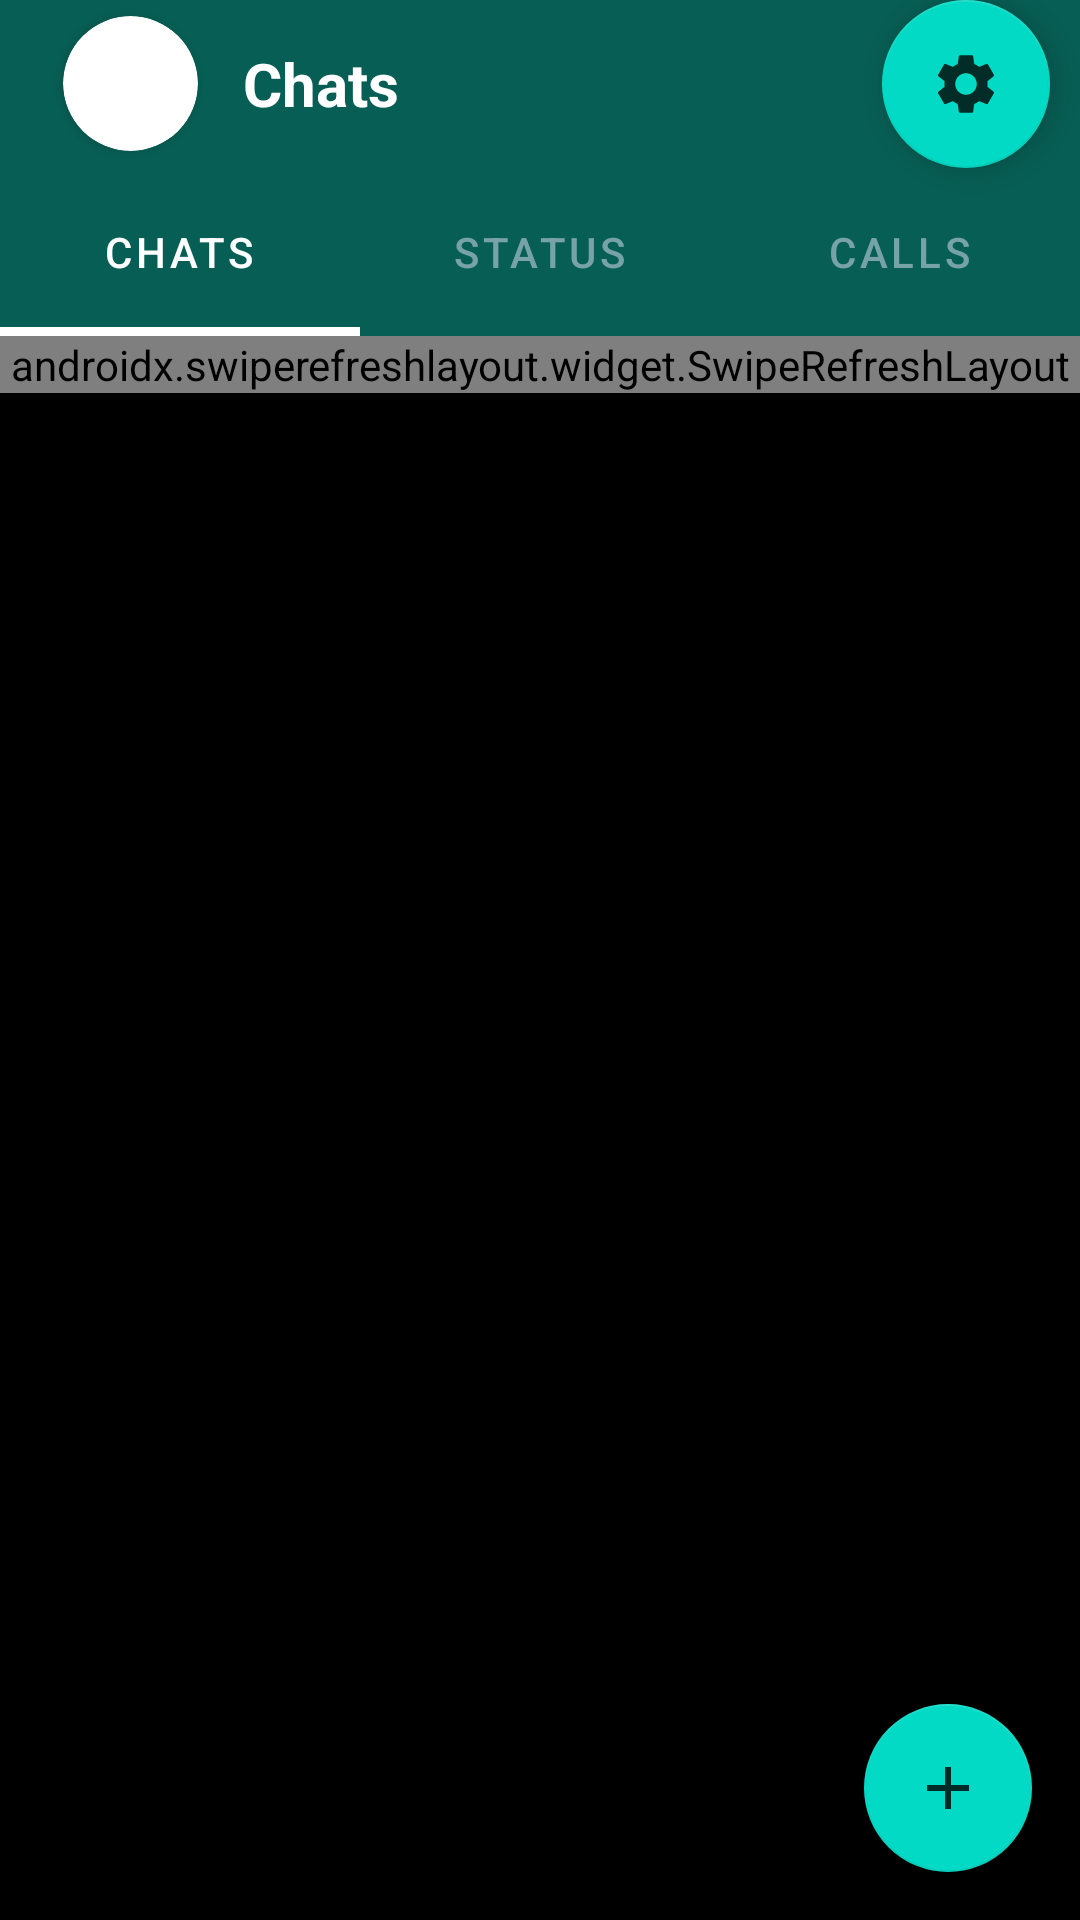

Where to tap for icons on this 1080x1920 app screen, as [x,y]:
contact add: [948,1788]
contact setting: [966,84]
